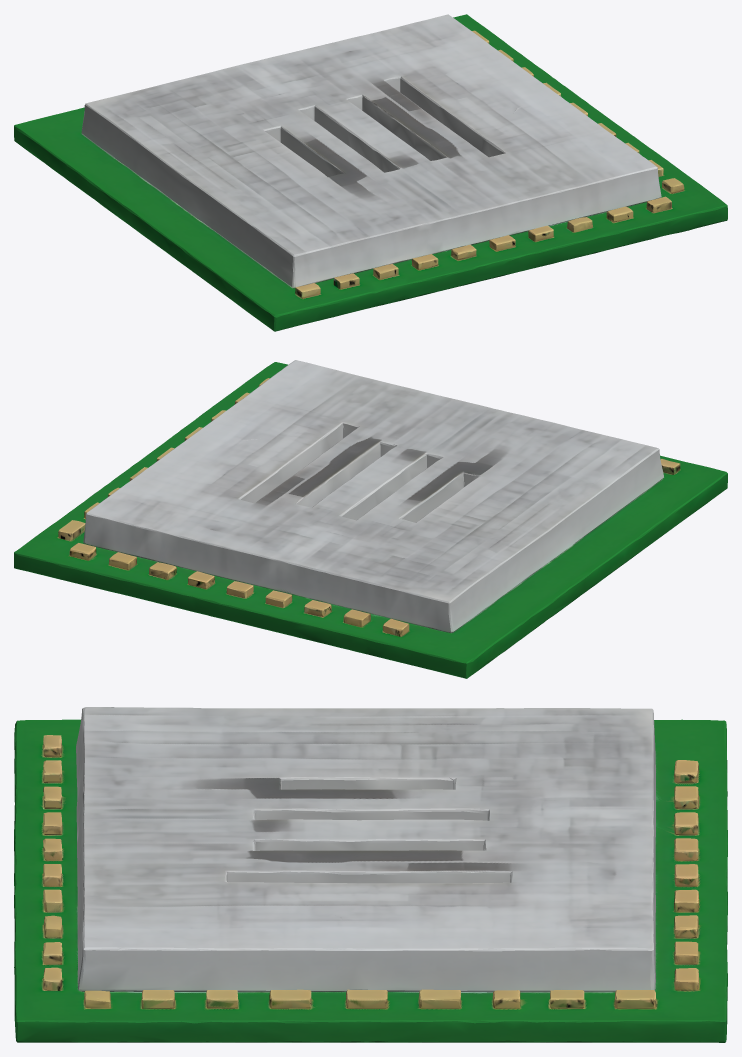
The model's file is cpu.fbx.
The picture shows the model from 3 angles, top to bottom: view 1: azimuth 30°, elevation 25°; view 2: azimuth 150°, elevation 25°; view 3: azimuth 270°, elevation 25°; orthographic projection. The views are drawn at different scales.
Visible parts, largest first — view 1: model; view 2: model; view 3: model.
Boxes of the visible parts, left/top/right/bottom form: model: left=14, top=14, right=727, bottom=331; model: left=14, top=360, right=727, bottom=678; model: left=14, top=707, right=727, bottom=1042.
Size of the model in its own units: 191 by 19.32 by 190.
Materials: 1 (1 with a texture image).
